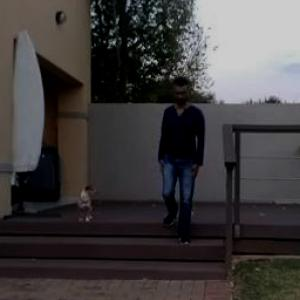follow: (162, 75, 205, 246)
